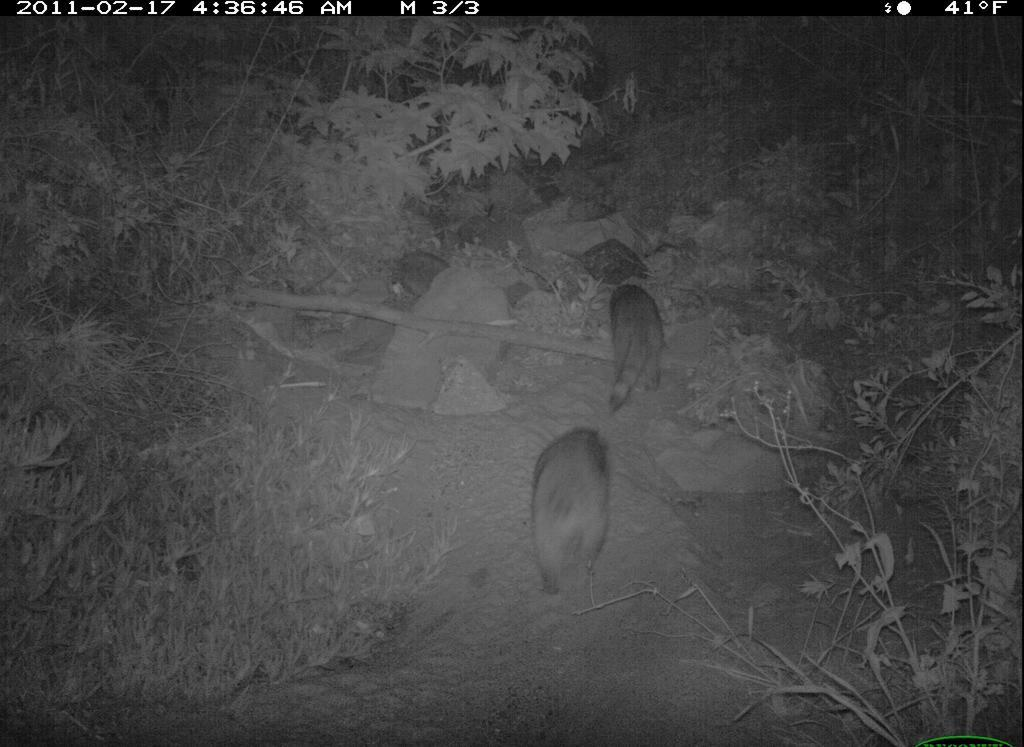raccoon: (516, 420, 635, 606), (596, 259, 706, 418)
